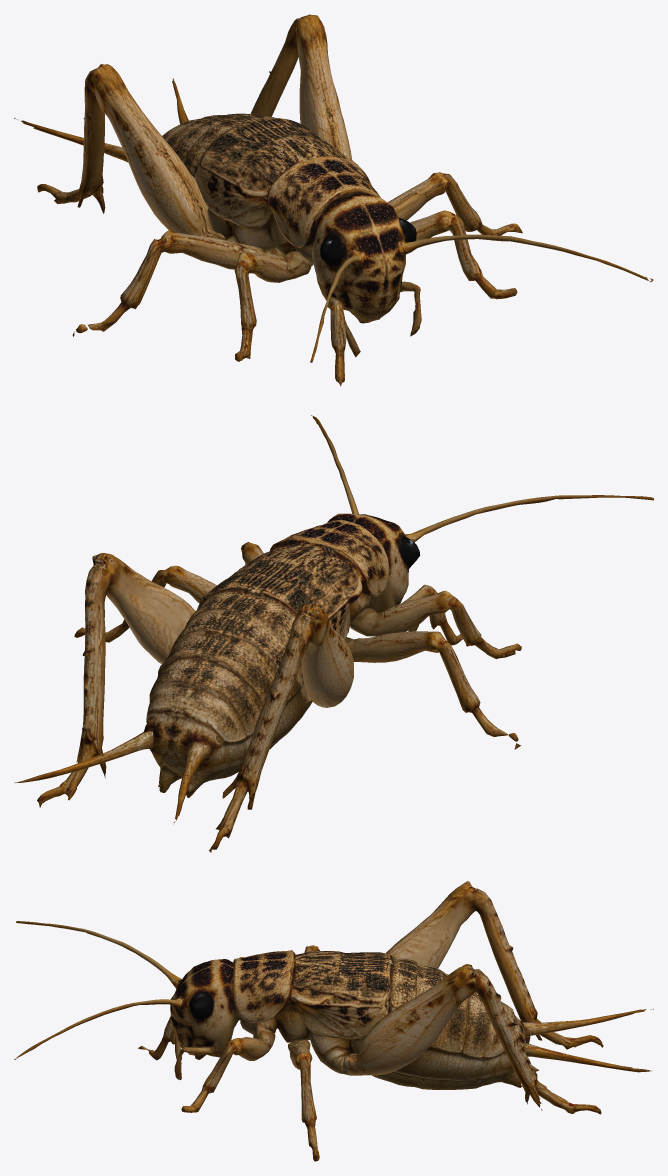
Rendered from feeder_cricket.glb.
The picture shows the model from 3 angles, top to bottom: view 1: azimuth 30°, elevation 25°; view 2: azimuth 150°, elevation 25°; view 3: azimuth 270°, elevation 25°; orthographic projection. The views are drawn at different scales.
Visible parts, largest first — view 1: tripo_part_0, tripo_part_2, tripo_part_6, tripo_part_1, tripo_part_4, tripo_part_7, tripo_part_3, tripo_part_8, tripo_part_5; view 2: tripo_part_0, tripo_part_1, tripo_part_6, tripo_part_2, tripo_part_4, tripo_part_7, tripo_part_3, tripo_part_9, tripo_part_5; view 3: tripo_part_0, tripo_part_1, tripo_part_2, tripo_part_6, tripo_part_8, tripo_part_3, tripo_part_5, tripo_part_9.
Part boxes in pixels (x1=…): tripo_part_0: x1=162, y1=113, x2=380, y2=264; tripo_part_2: x1=310, y1=194, x2=653, y2=386; tripo_part_6: x1=37, y1=64, x2=225, y2=239; tripo_part_1: x1=250, y1=14, x2=351, y2=159; tripo_part_4: x1=72, y1=230, x2=284, y2=336; tripo_part_7: x1=234, y1=251, x2=312, y2=361; tripo_part_3: x1=387, y1=172, x2=522, y2=235; tripo_part_8: x1=406, y1=210, x2=517, y2=299; tripo_part_5: x1=14, y1=117, x2=128, y2=162; tripo_part_0: x1=144, y1=519, x2=389, y2=797; tripo_part_1: x1=37, y1=553, x2=195, y2=807; tripo_part_6: x1=209, y1=603, x2=353, y2=852; tripo_part_2: x1=311, y1=415, x2=653, y2=645; tripo_part_4: x1=345, y1=631, x2=520, y2=749; tripo_part_7: x1=350, y1=590, x2=521, y2=659; tripo_part_3: x1=74, y1=565, x2=216, y2=642; tripo_part_9: x1=14, y1=731, x2=154, y2=782; tripo_part_5: x1=173, y1=742, x2=209, y2=824; tripo_part_0: x1=232, y1=950, x2=525, y2=1089; tripo_part_1: x1=343, y1=964, x2=601, y2=1114; tripo_part_2: x1=14, y1=921, x2=240, y2=1079; tripo_part_6: x1=386, y1=881, x2=603, y2=1049; tripo_part_8: x1=181, y1=1022, x2=275, y2=1112; tripo_part_3: x1=288, y1=1039, x2=319, y2=1161; tripo_part_5: x1=522, y1=1008, x2=653, y2=1036; tripo_part_9: x1=522, y1=1041, x2=651, y2=1072.
Bounding box in the file's own units: 0.6464 × 0.2685 × 0.9771.
Materials: 10 (10 with a texture image).
